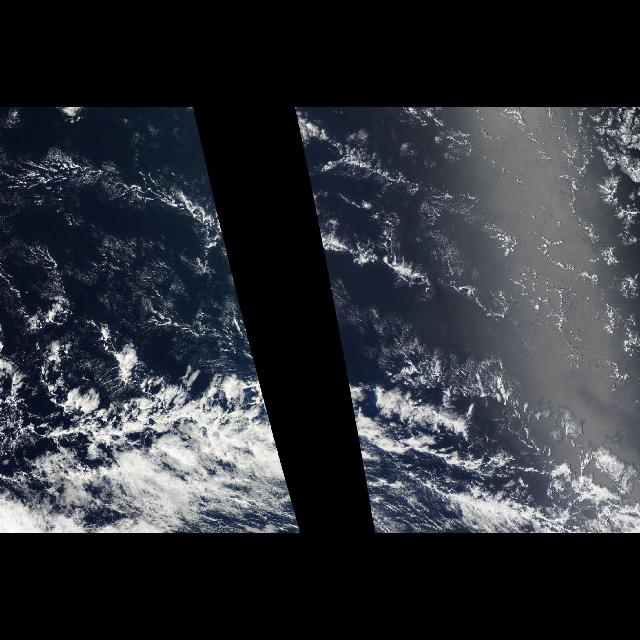Fish: (2, 112, 236, 284), (296, 112, 492, 284), (2, 366, 284, 470), (343, 366, 517, 470)
